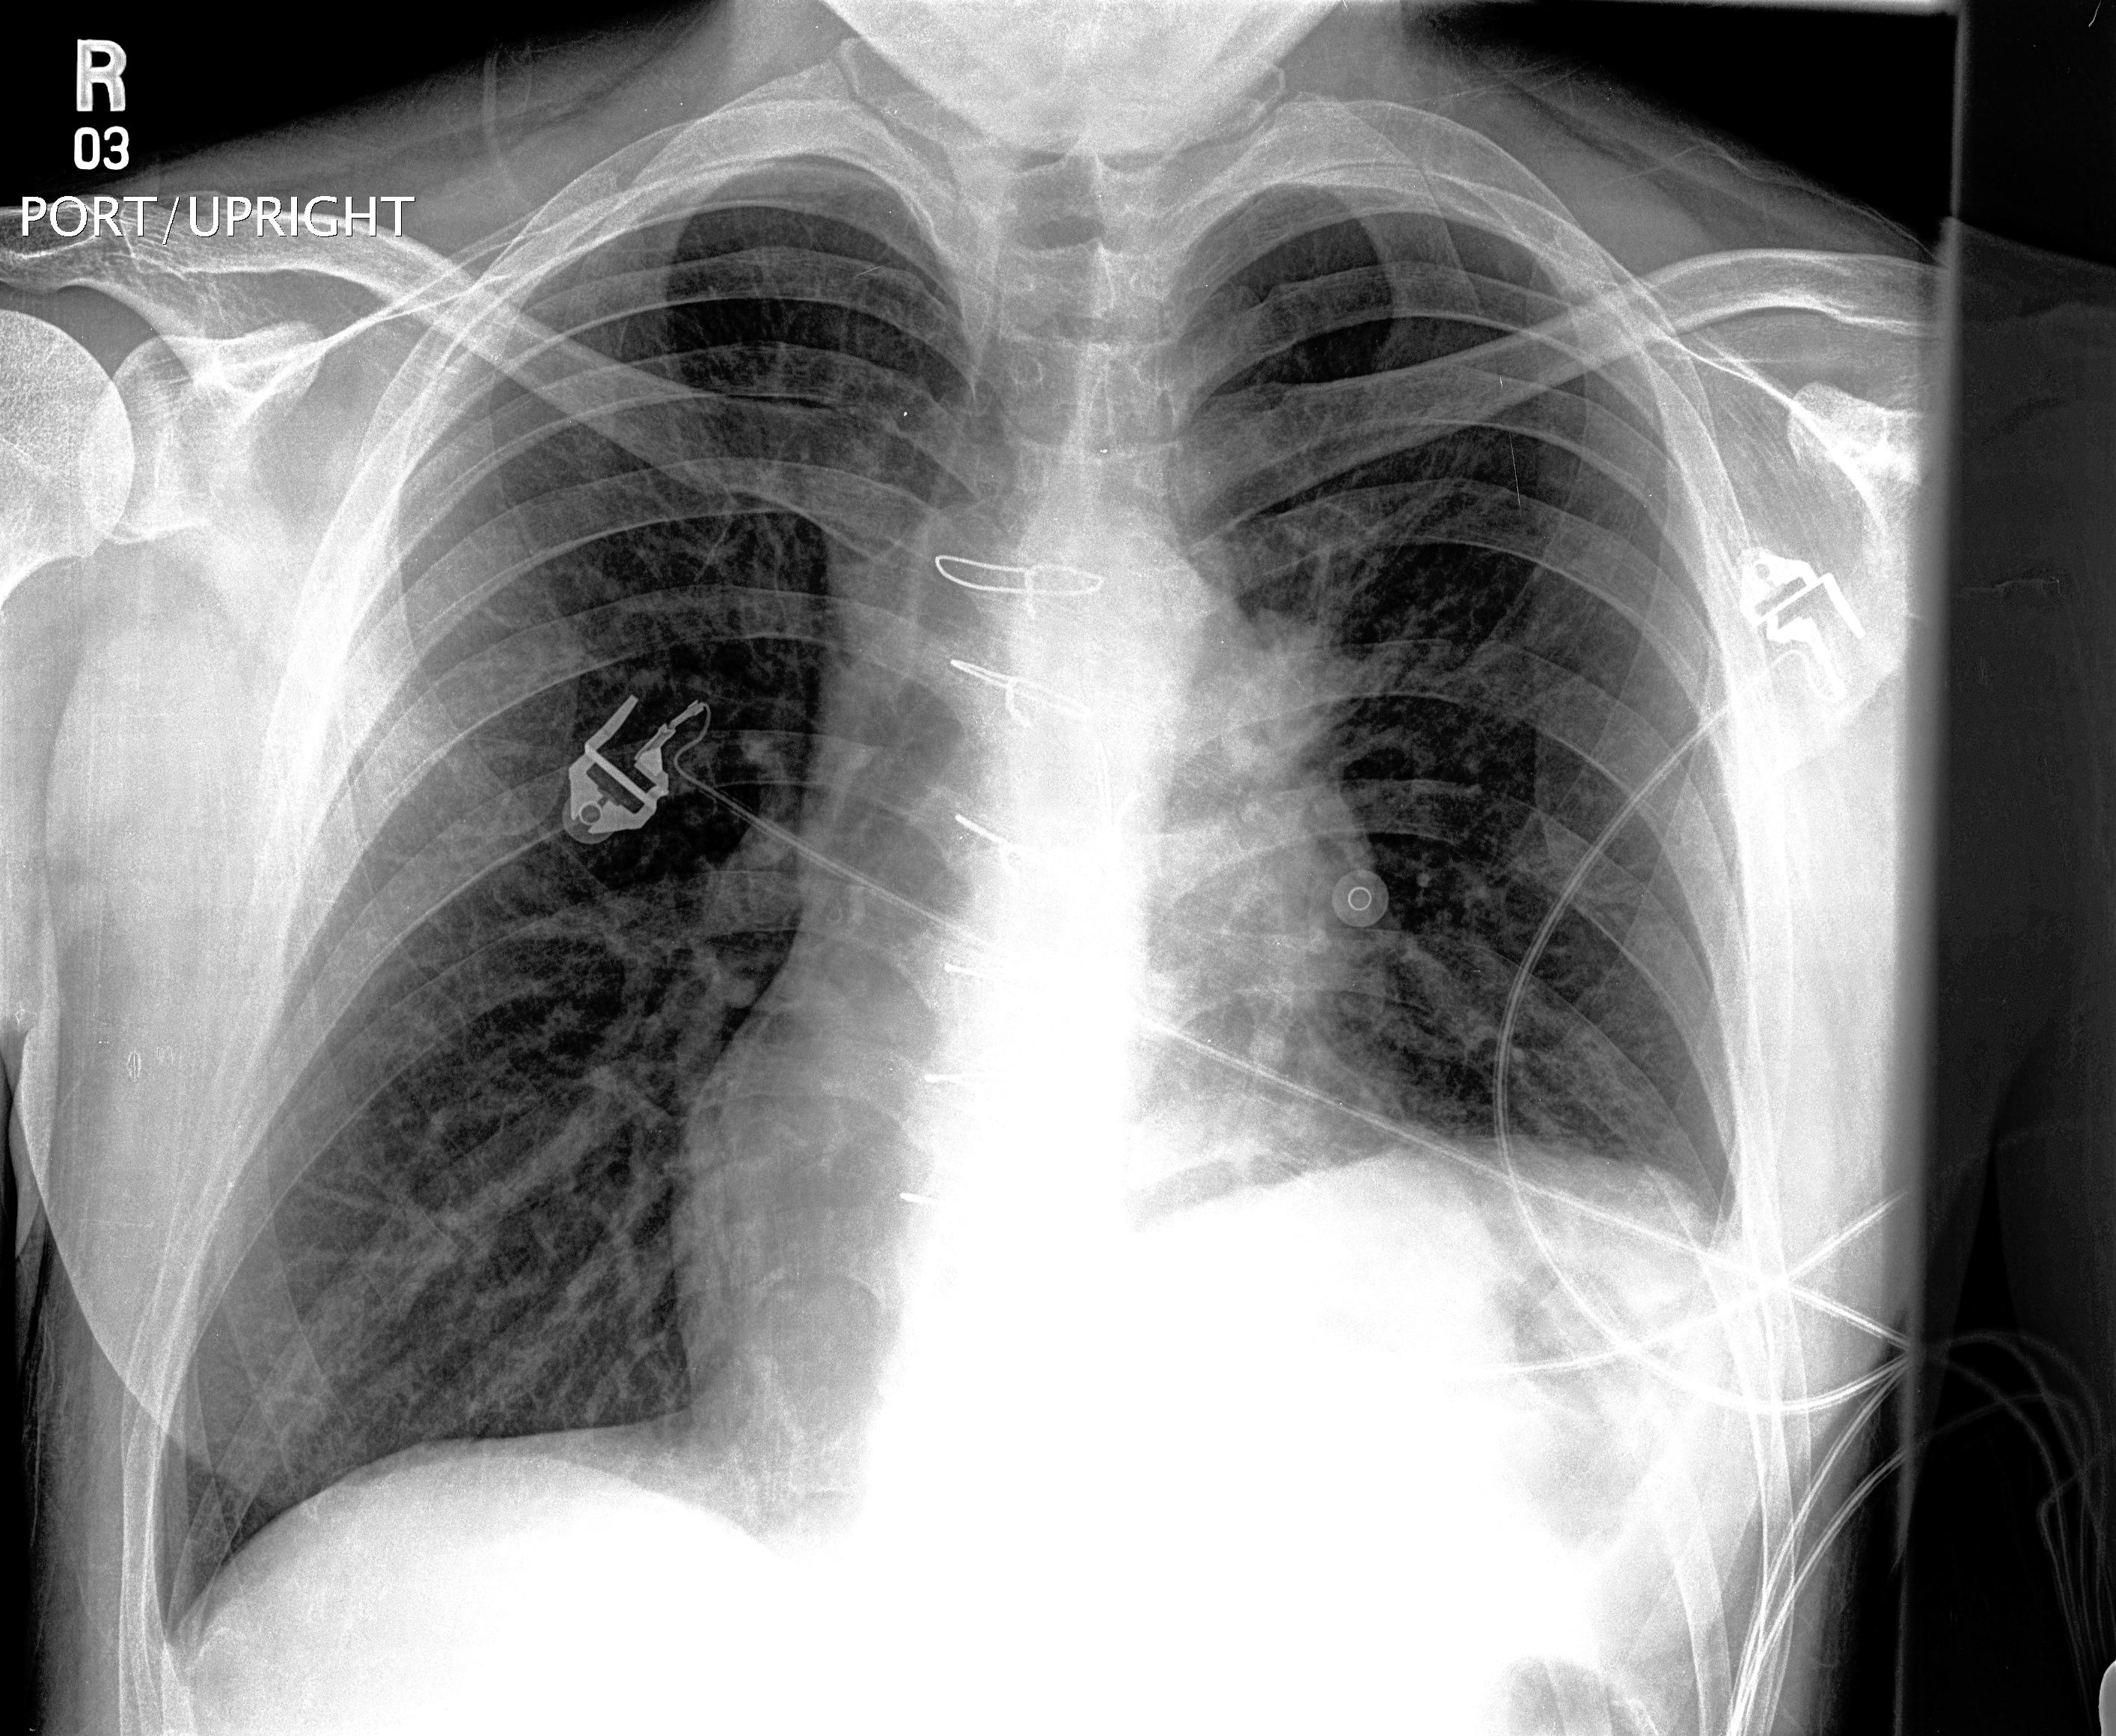Pleural Effusion: (1350, 1188, 1794, 1532)
